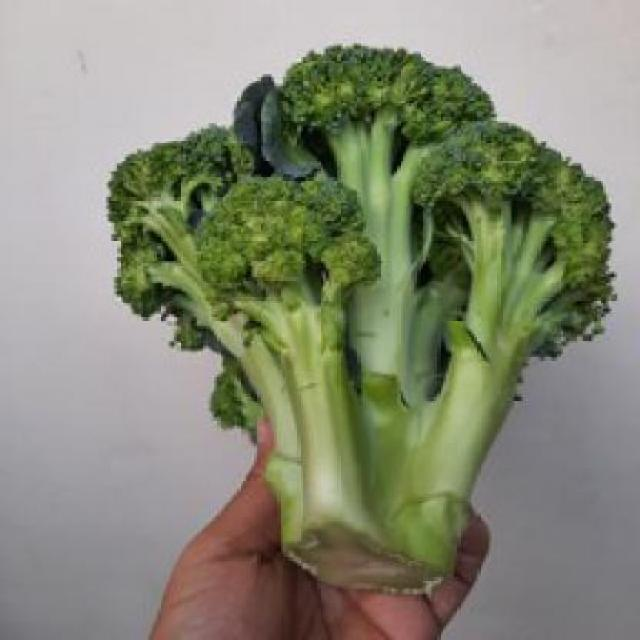broccoli: (132, 66, 592, 580)
